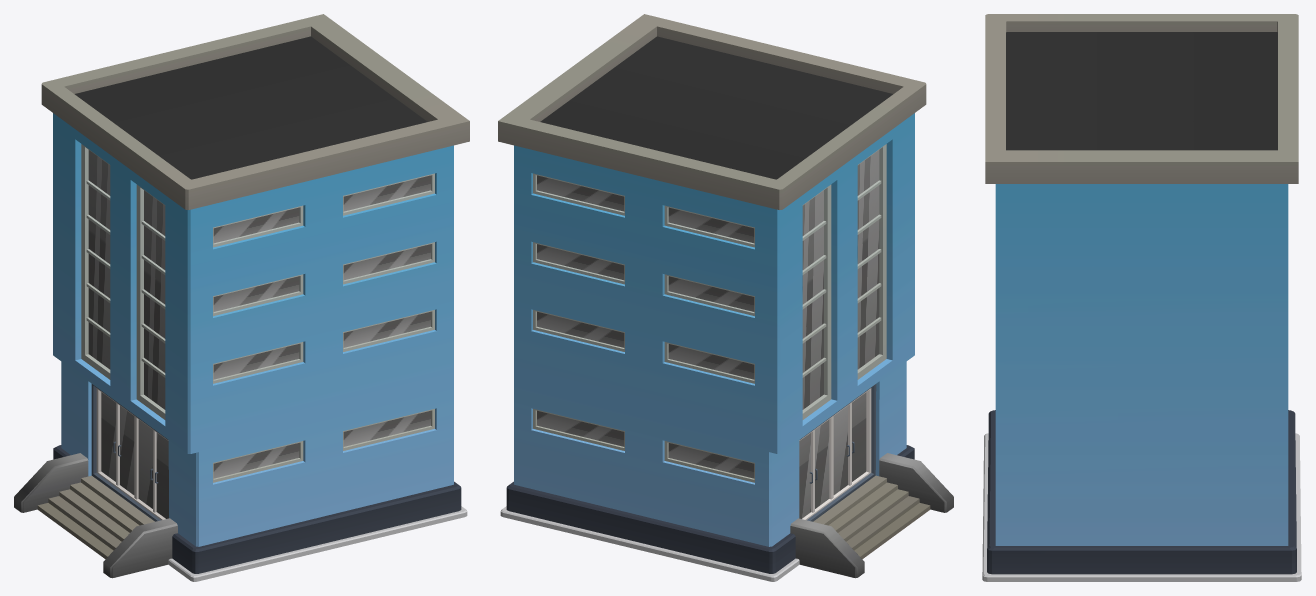
The model's file is Building_26_E.fbx.
3 views of the same model, side by side, from view 1: azimuth 30°, elevation 25°; view 2: azimuth 150°, elevation 25°; view 3: azimuth 270°, elevation 25° (orthographic). The views are drawn at different scales.
Visible parts, largest first — view 1: Building_26_E; view 2: Building_26_E; view 3: Building_26_E.
Boxes of the visible parts, bbox=[...] form: Building_26_E: bbox=[14, 14, 469, 581]; Building_26_E: bbox=[498, 14, 953, 581]; Building_26_E: bbox=[982, 14, 1301, 581].
Bounding box in the file's own units: 923 × 1037 × 712.
